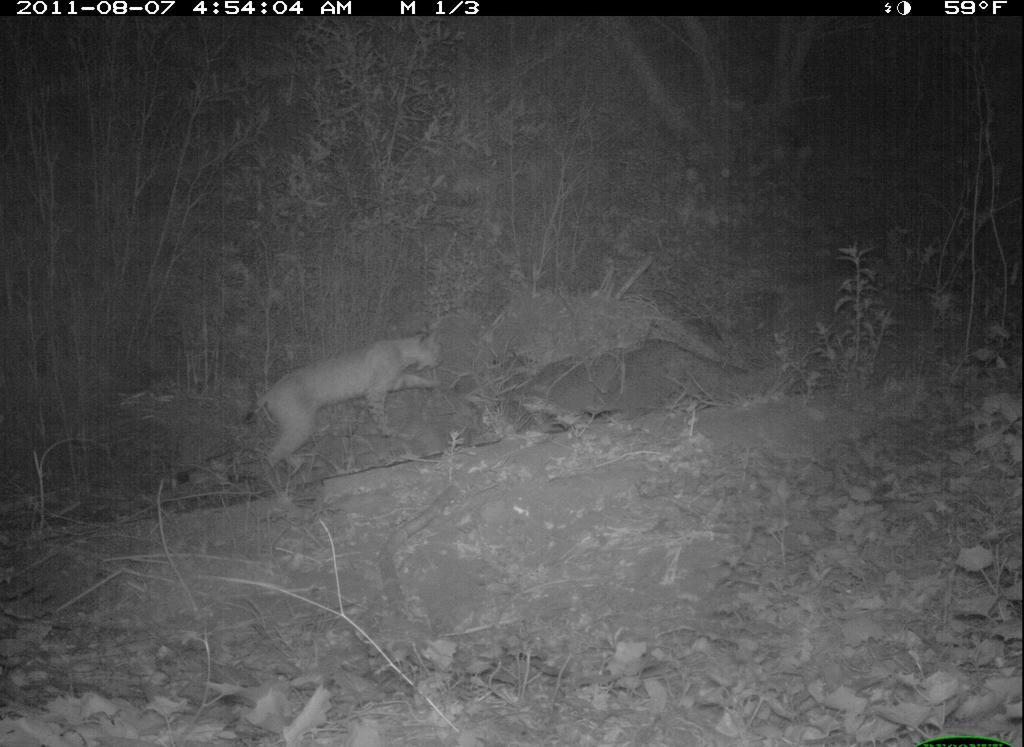bobcat: (241, 320, 452, 477)
